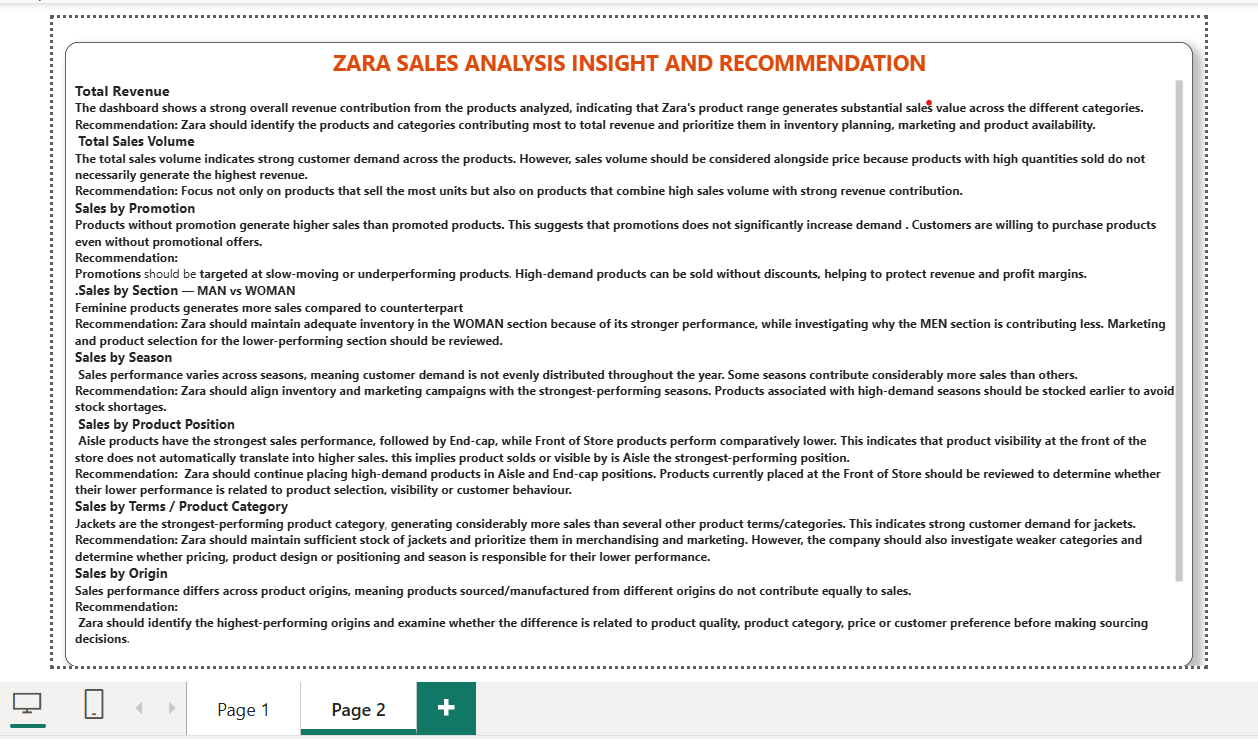

What the dashboard file says about the page in this screenshot:
{"tool":"powerbi","page":{"name":"Page 2","canvas":[1280,720],"ordinal":1},"visuals":[{"type":"textbox","title":"ZARA SALES ANALYSIS INSIGHT AND RECOMMENDATION","box":[13,25.9,1253.3,694.6],"z":0}]}

Visuals, with their boxes on the page's 1280x720 design canvas (x1, y1, x2, y2). These are canvas units, not pixel positions in the 1258x739 screenshot, which may show the page scaled, cropped or inside an application window:
"ZARA SALES ANALYSIS INSIGHT AND RECOMMENDATION" textbox: [x1=13, y1=26, x2=1266, y2=720]
